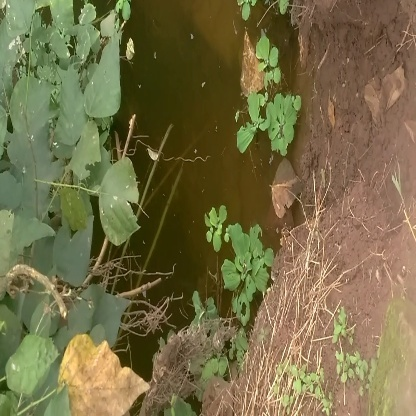leaf: (98, 163, 154, 245)
